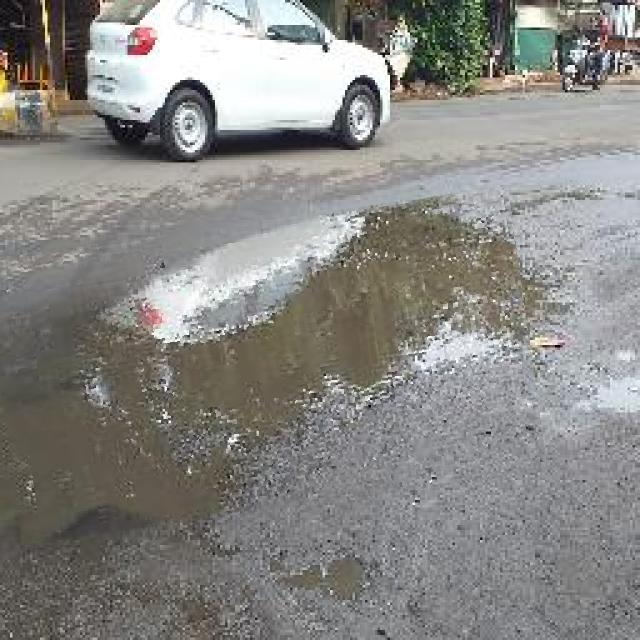puddle: (1, 205, 541, 528)
